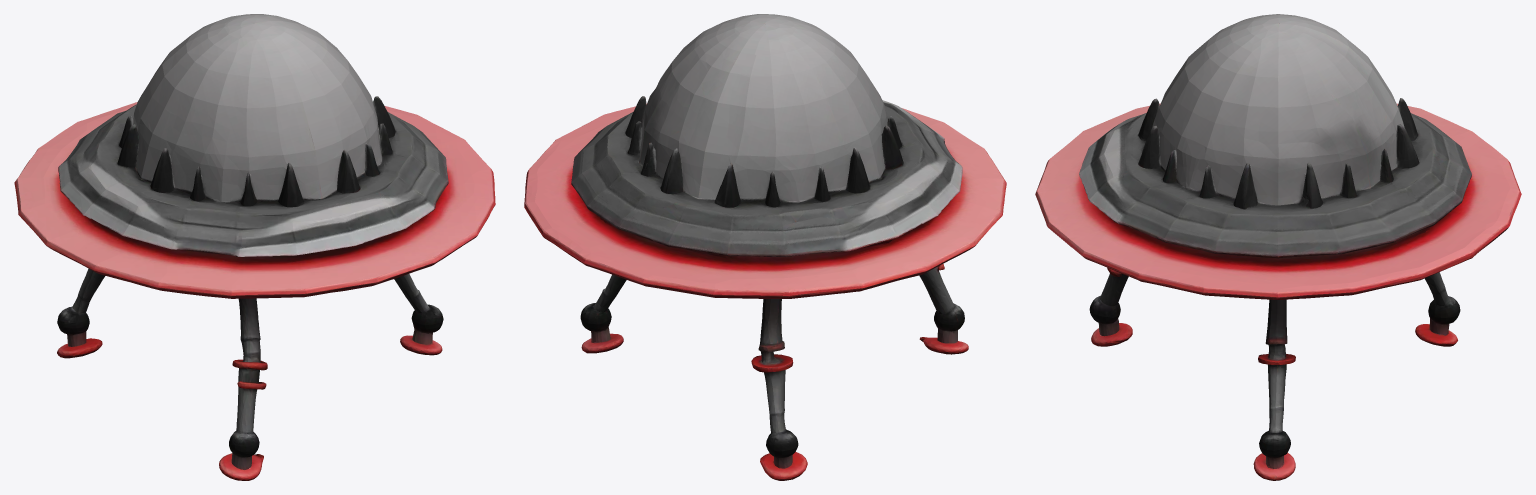
File: voxhammer_t01.glb
3 views of the same model, side by side, from view 1: azimuth 30°, elevation 25°; view 2: azimuth 150°, elevation 25°; view 3: azimuth 270°, elevation 25° (orthographic).
Parts seen in each view (by area): view 1: geometry_0; view 2: geometry_0; view 3: geometry_0.
Boxes of the visible parts, x1,y1,x2,y2 form: geometry_0: (14,14,495,480); geometry_0: (524,14,1006,480); geometry_0: (1035,14,1521,480).
Bounding box in the file's own units: 2 × 1.68 × 2.
Materials: 1 (1 with a texture image).
